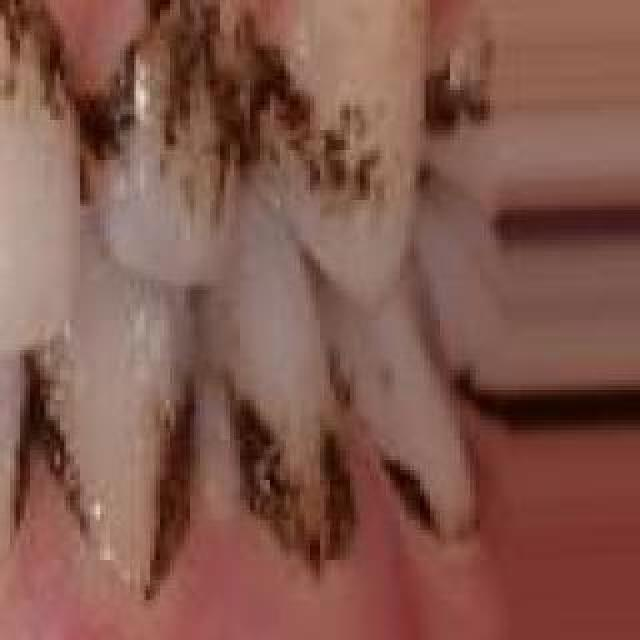stains: (239, 44, 385, 200), (120, 0, 216, 204), (235, 400, 361, 550), (428, 18, 532, 172), (0, 0, 80, 156), (139, 354, 185, 570), (10, 360, 86, 476), (369, 455, 455, 521)
